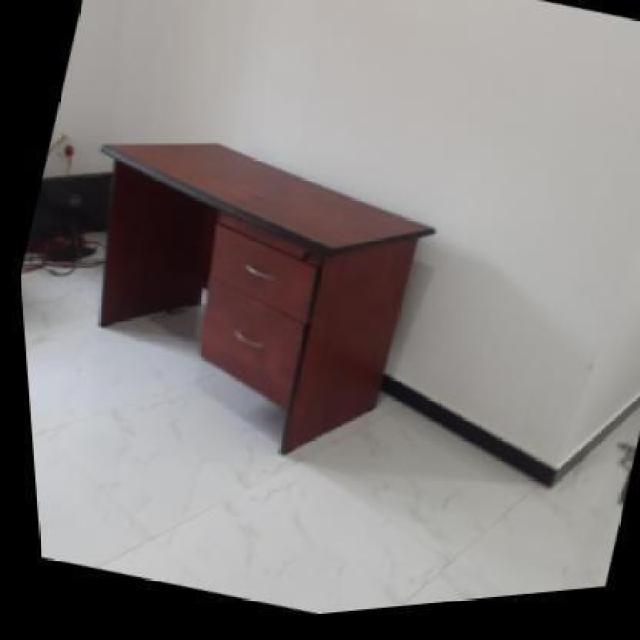tables: (97, 140, 435, 454)
